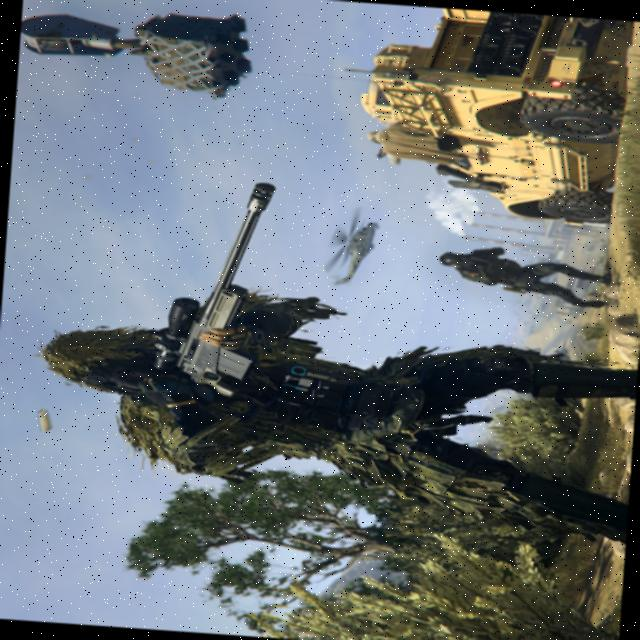Sniper: (106, 154, 362, 434)
